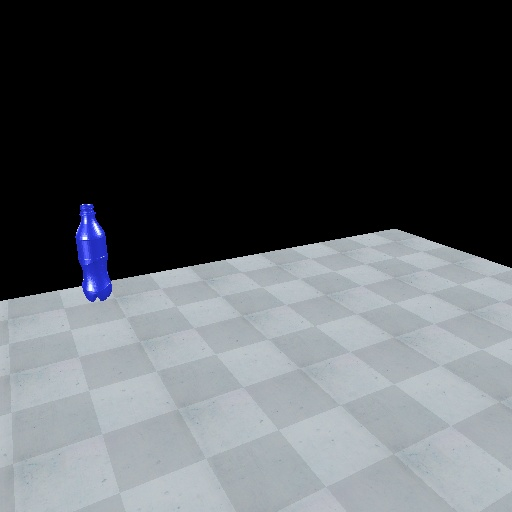bottle: (72, 201, 114, 304)
